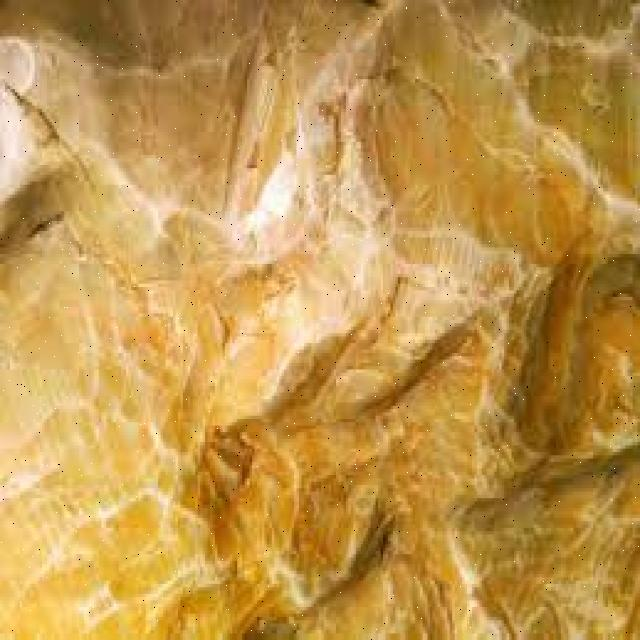Metamorphic: (3, 3, 630, 627)
